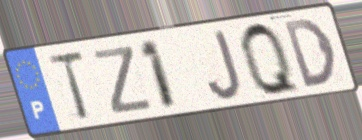1: (138, 37, 183, 112)
D: (280, 16, 340, 91)
J: (205, 27, 244, 102)
Q: (236, 19, 305, 99)
T: (44, 49, 93, 124)
Z: (90, 43, 156, 117)
